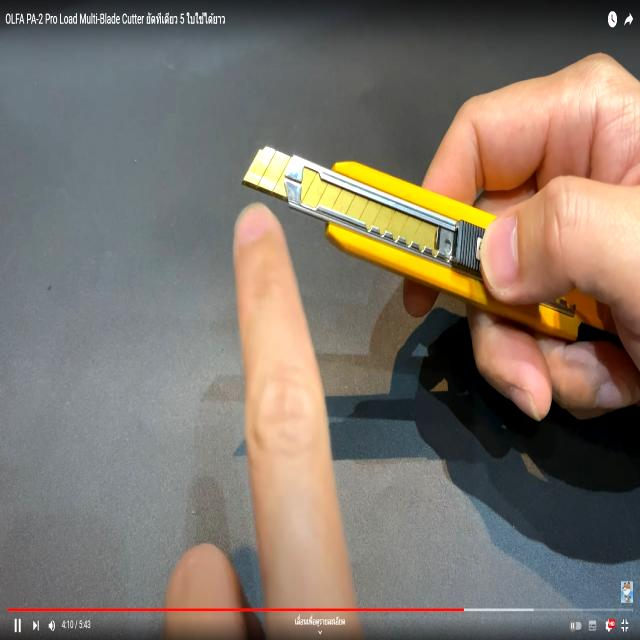cutter: (236, 99, 640, 477)
